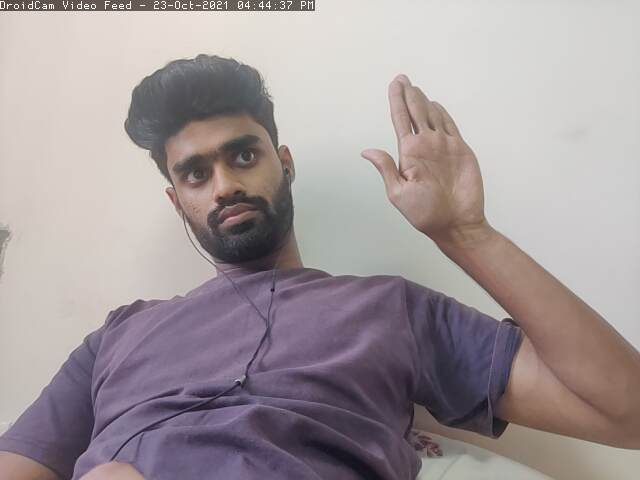Stop: (360, 66, 489, 234)
